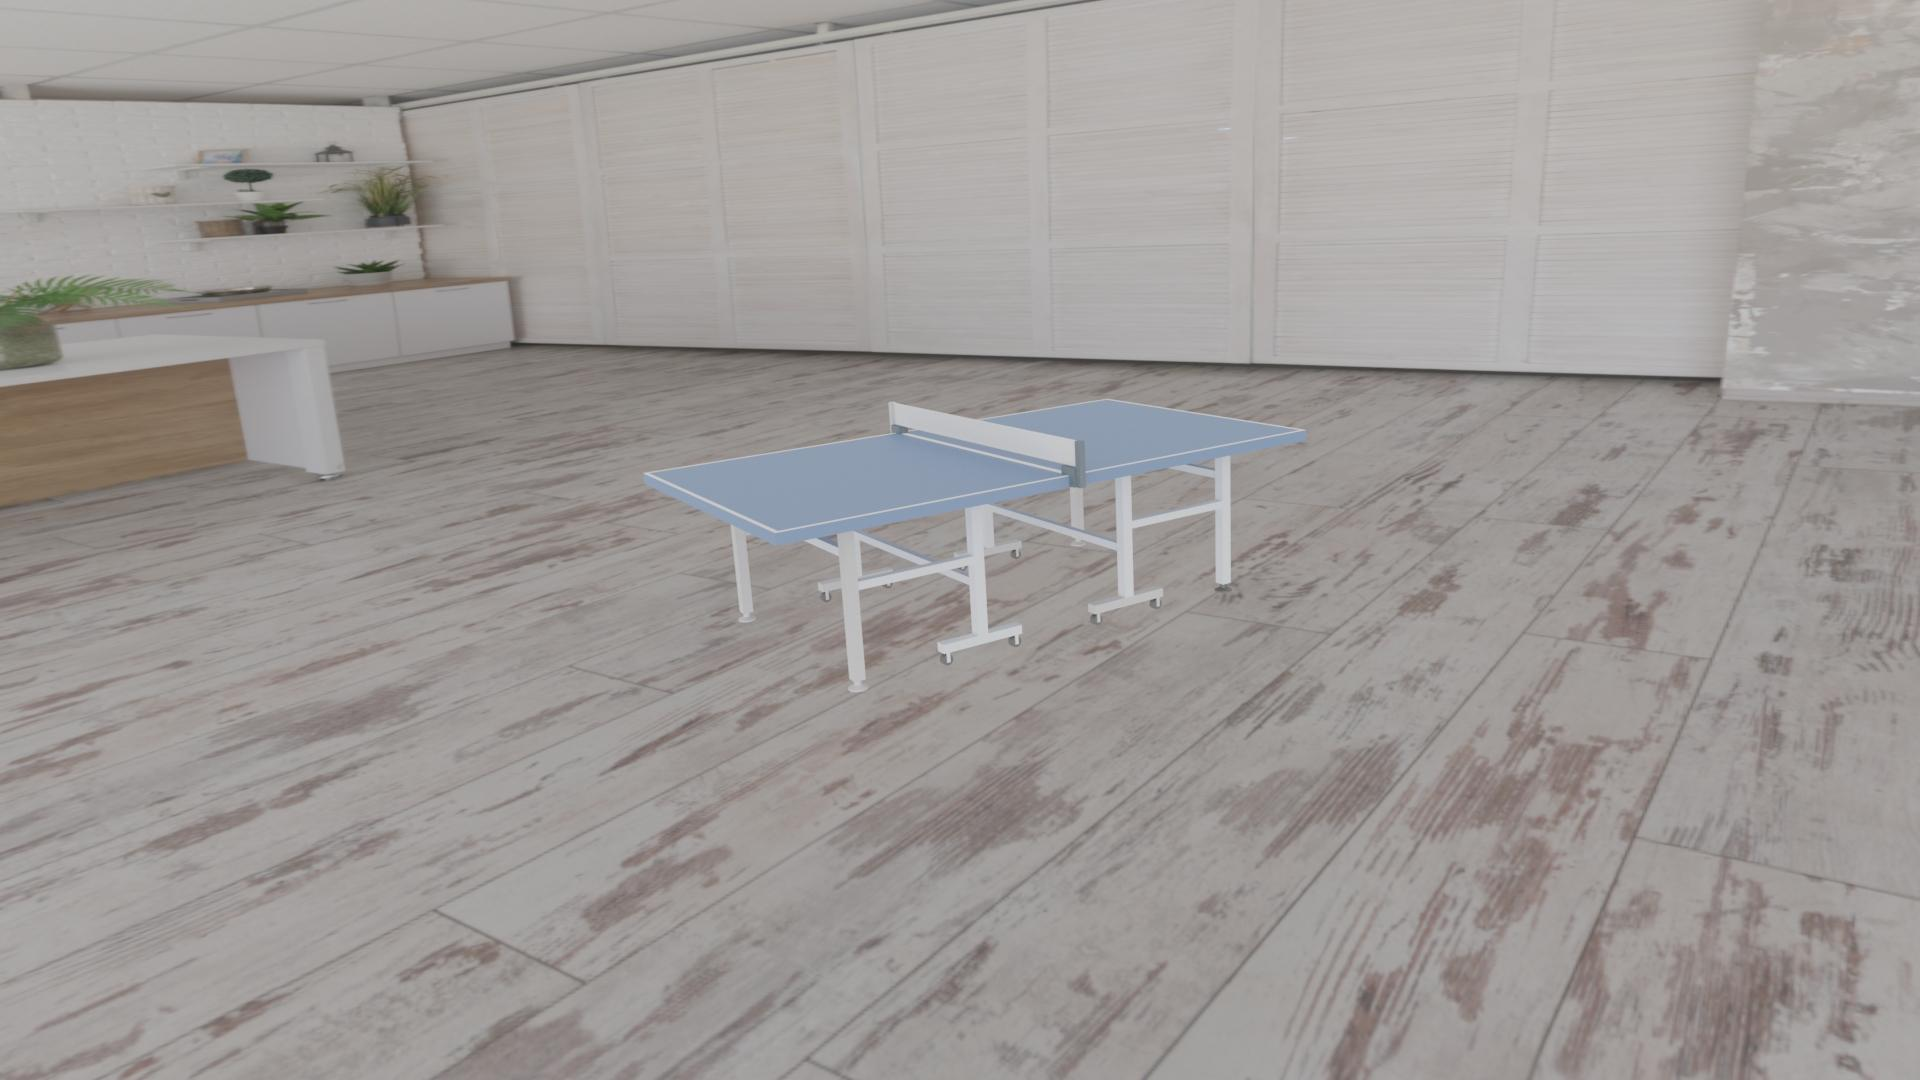table: (649, 400, 1300, 531)
